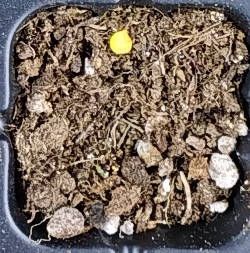pepper seed: (42, 2, 175, 56)
